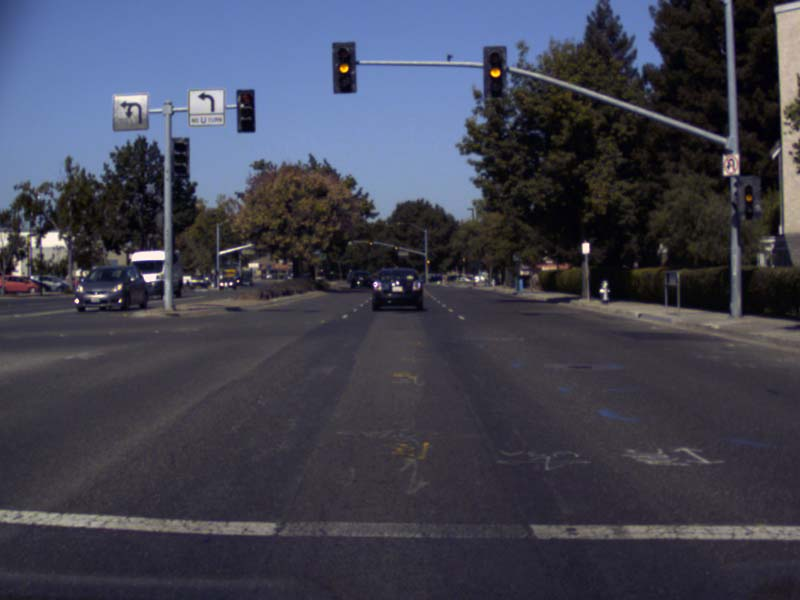Red: (483, 46, 506, 97), (236, 89, 256, 132)
Yellow: (331, 41, 356, 92), (744, 185, 754, 220), (426, 256, 430, 267), (368, 238, 372, 248), (393, 243, 397, 253)
